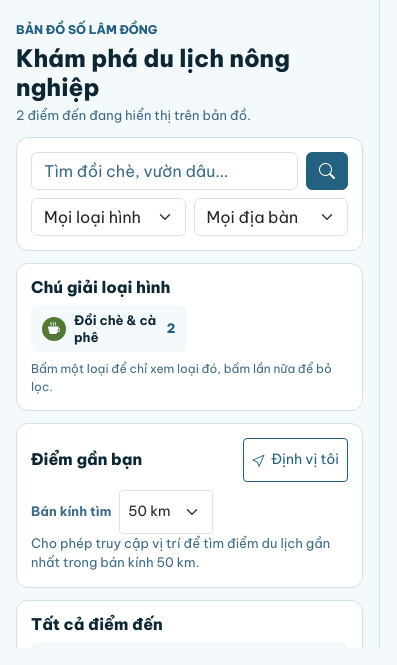
Test case: MapView › dinh vi va liet ke diem gan nhat kem khoang cach
Click the button with class "btn-outline-success".
click(296, 460)  # box [243,438,348,482]
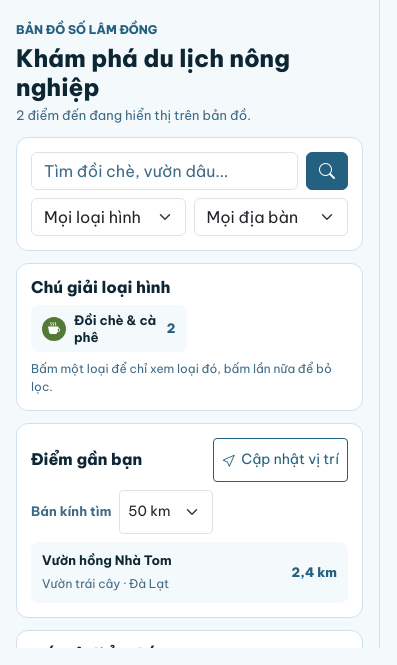
Check: the list with class "nearby-list" shows "2,4 km", box [31,542,348,603]
